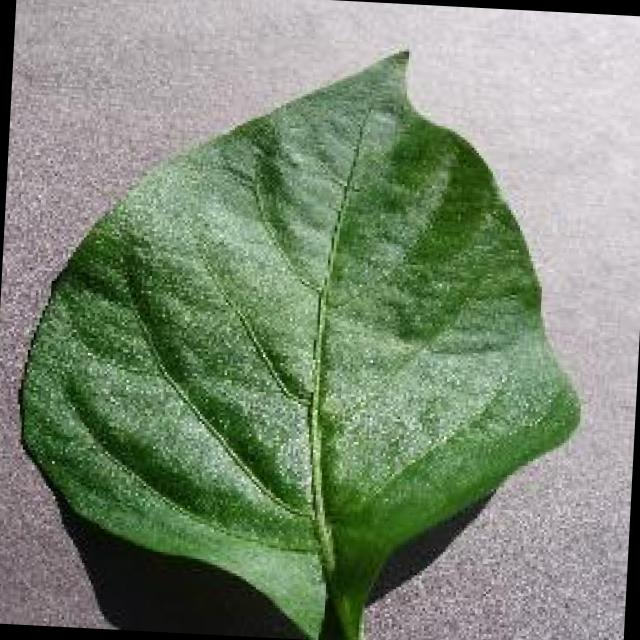Chilli_Healthy: (4, 27, 599, 640)
